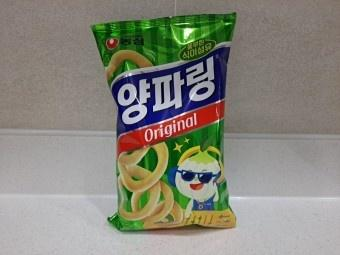snack: (89, 11, 238, 233)
